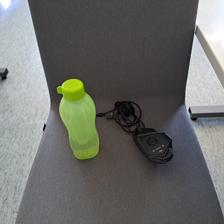bottle: (56, 77, 99, 160)
mouse: (131, 126, 173, 164)
